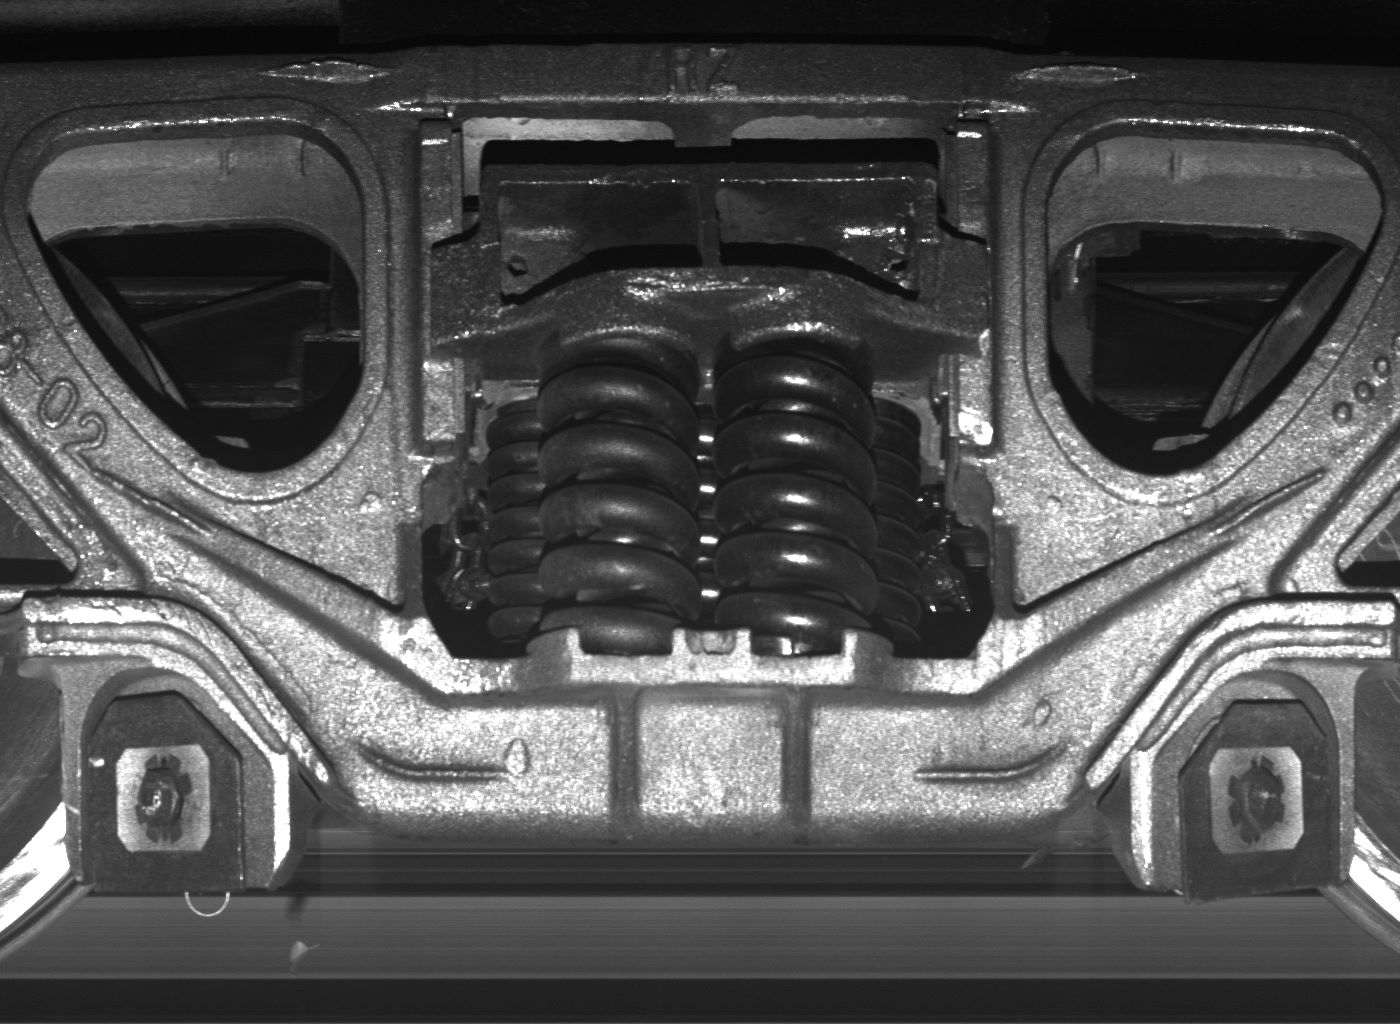normal: (65, 659, 292, 896), (1151, 667, 1355, 900)
